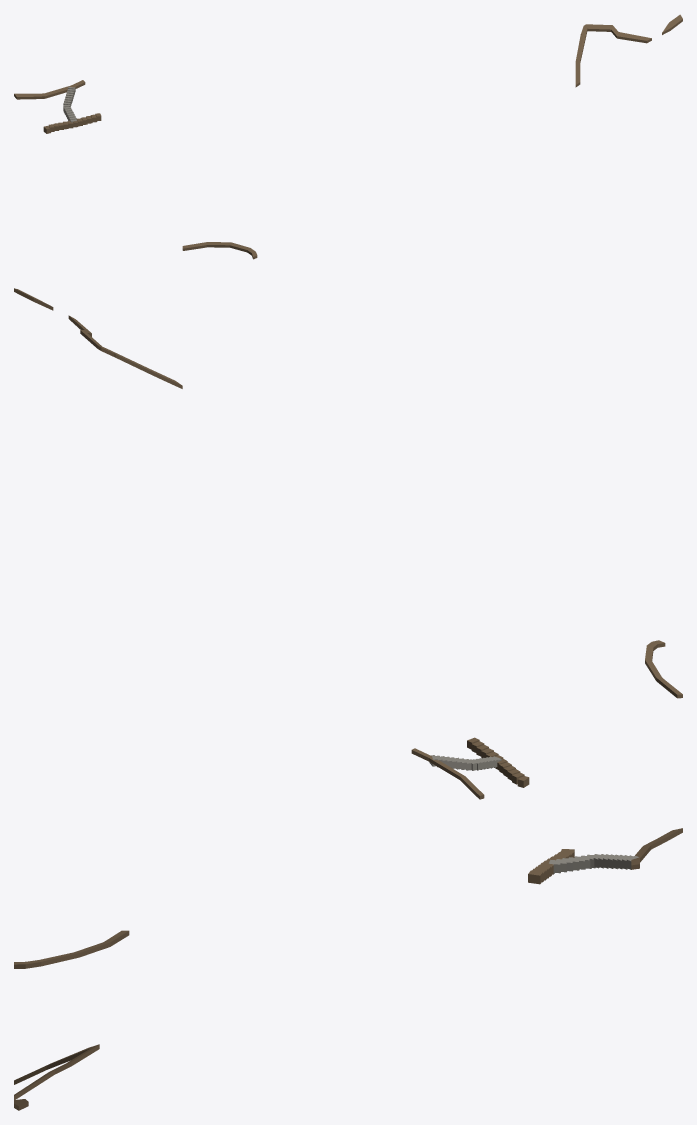
3 views of the same model, one above another, from view 1: azimuth 30°, elevation 25°; view 2: azimuth 150°, elevation 25°; view 3: azimuth 270°, elevation 25° (orthographic). The views are drawn at different scales.
Bounding box in the file's own units: 147 × 40.16 × 94.37.
